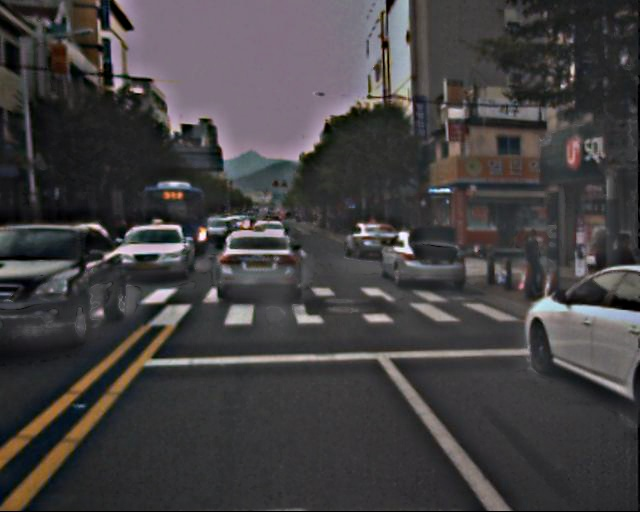person: (520, 226, 547, 297), (613, 233, 640, 302)
